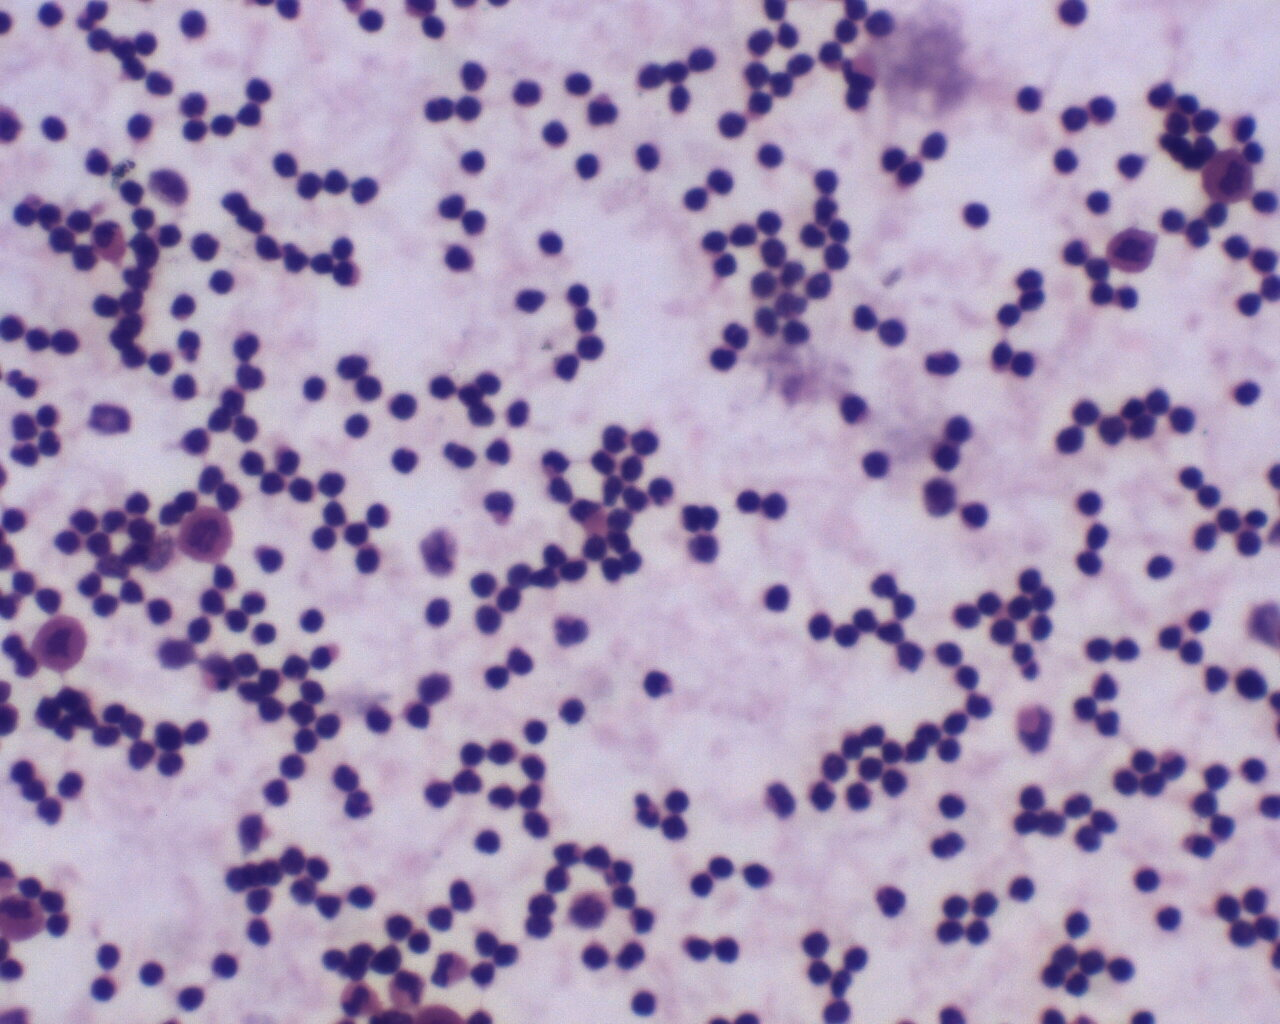ab: (31, 611, 93, 674), (177, 507, 240, 565), (1198, 144, 1257, 206), (1107, 220, 1161, 276)
lymph: (854, 444, 898, 488), (1229, 287, 1270, 327), (559, 66, 600, 103), (1166, 400, 1204, 440), (571, 144, 605, 187), (340, 408, 376, 447), (916, 125, 954, 163), (759, 578, 795, 616), (1107, 950, 1143, 988), (677, 180, 713, 219), (470, 827, 511, 861), (739, 855, 773, 895), (417, 591, 453, 629), (328, 755, 366, 792), (959, 195, 995, 234), (172, 7, 211, 43), (121, 109, 158, 145), (36, 113, 76, 145), (49, 323, 85, 359), (624, 985, 660, 1021), (299, 372, 335, 408), (183, 713, 216, 751), (754, 138, 790, 173), (533, 227, 568, 261), (388, 443, 423, 478), (206, 263, 241, 298), (557, 692, 590, 728), (936, 787, 971, 821), (1144, 548, 1178, 583), (1083, 632, 1115, 669), (1134, 862, 1168, 895), (1071, 485, 1106, 518), (1058, 905, 1091, 940), (1008, 870, 1039, 908), (1015, 82, 1049, 114), (308, 523, 344, 555), (57, 769, 89, 805), (1091, 709, 1126, 741), (177, 981, 210, 1014), (959, 497, 991, 532), (1051, 143, 1083, 177), (269, 146, 300, 180), (133, 958, 166, 990), (851, 301, 881, 335), (147, 595, 178, 627), (156, 748, 186, 781), (352, 543, 381, 576), (171, 370, 199, 403), (807, 959, 835, 988), (460, 144, 487, 174), (252, 619, 279, 648)
neutro: (336, 978, 381, 1022)
